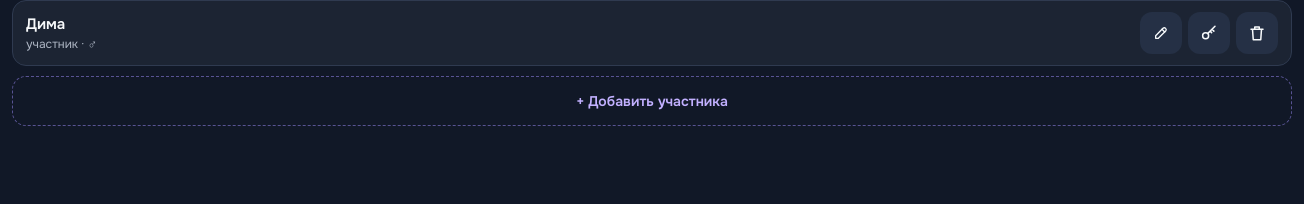
Test: UsersSection — сброс PIN › новый PIN от сервера показывается у участника и прячется по ✕
Check: the text "Дима" is shown, box left=26, top=14, right=65, bottom=34
Click the button named "Сбросить PIN" at point(1209, 33), box left=1188, top=12, right=1230, bottom=54
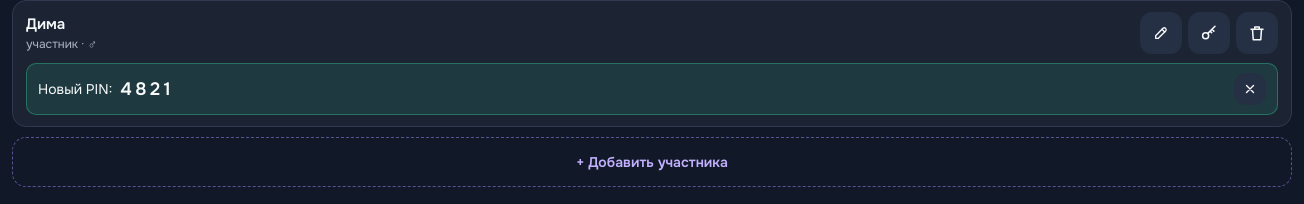
Check: the text "4821" is shown, box left=120, top=78, right=174, bottom=100
Click the button named "Скрыть" at point(1250, 89), box left=1234, top=73, right=1266, bottom=105
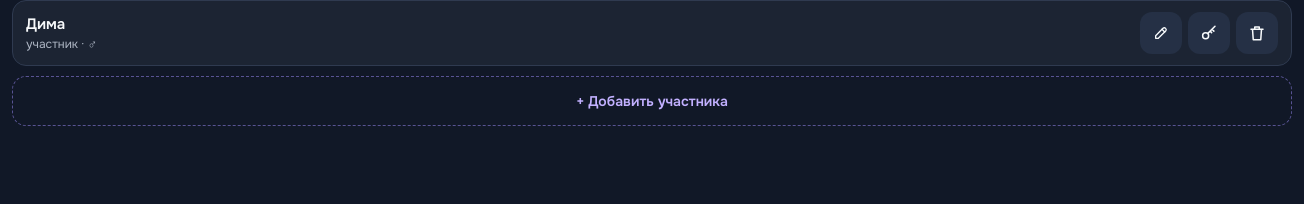
Check: the text "4821" is gone
